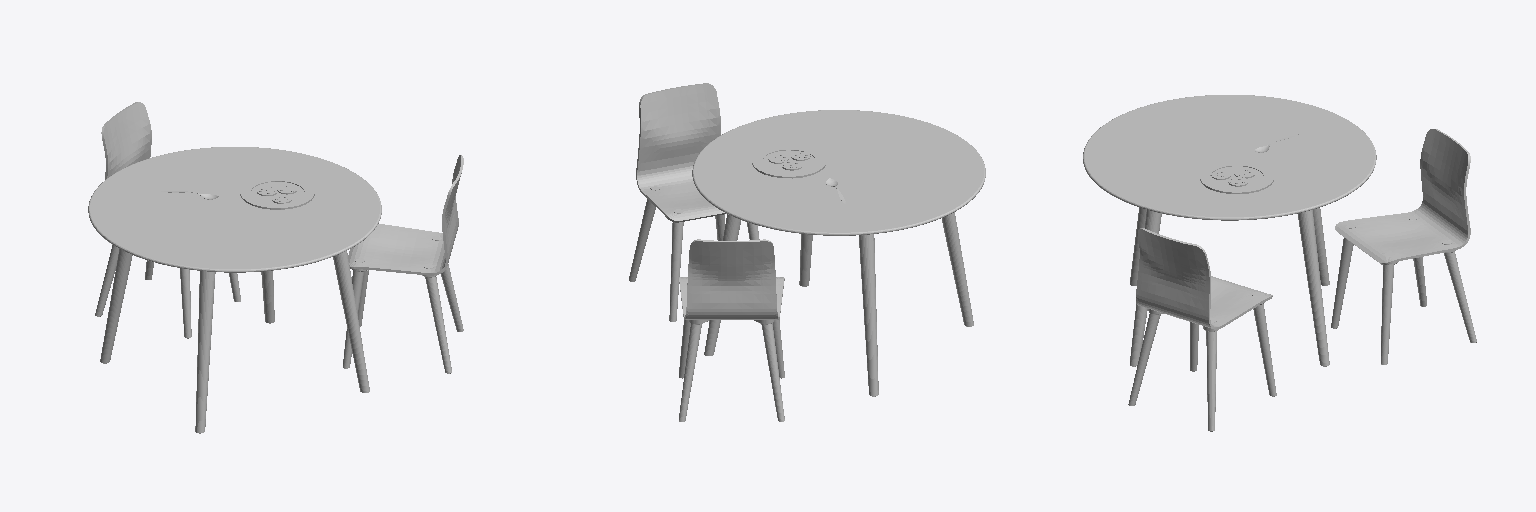
The model's file is Escenario 1 - Comedor.obj.
3 renders of one model, left to right at view 1: azimuth 30°, elevation 25°; view 2: azimuth 150°, elevation 25°; view 3: azimuth 270°, elevation 25°, orthographic.
Visible parts, largest first — view 1: Mesh12 obj5_11_1 Group5 Group4 Group1 Model, Mesh6 _1_003_2 Group3 Group2 Group1 Model, Mesh3 _1_003_1 Group3 Group2 Group1 Model, Mesh18 obj2_11_2 Group5 Group4 Group1 Model, Mesh22 Group7 Group4 Group1 Model, Mesh11 obj2_11_1 Group5 Group4 Group1 Model, Mesh28 _1_003_4 Group9 Group8 Group1 Model, Mesh19 obj2_11_3 Group5 Group4 Group1 Model, Mesh25 _1_003_3 Group9 Group8 Group1 Model, Mesh5 obj3_1 Group3 Group2 Group1 Model, Mesh30 obj2_4 Group9 Group8 Group1 Model, Mesh32 obj3_4 Group9 Group8 Group1 Model (+3 smaller); view 2: Mesh12 obj5_11_1 Group5 Group4 Group1 Model, Mesh3 _1_003_1 Group3 Group2 Group1 Model, Mesh28 _1_003_4 Group9 Group8 Group1 Model, Mesh25 _1_003_3 Group9 Group8 Group1 Model, Mesh6 _1_003_2 Group3 Group2 Group1 Model, Mesh19 obj2_11_3 Group5 Group4 Group1 Model, Mesh22 Group7 Group4 Group1 Model, Mesh18 obj2_11_2 Group5 Group4 Group1 Model, Mesh8 obj2_2 Group3 Group2 Group1 Model, Mesh32 obj3_4 Group9 Group8 Group1 Model, Mesh27 obj3_3 Group9 Group8 Group1 Model, Mesh10 obj3_2 Group3 Group2 Group1 Model (+2 smaller); view 3: Mesh12 obj5_11_1 Group5 Group4 Group1 Model, Mesh3 _1_003_1 Group3 Group2 Group1 Model, Mesh25 _1_003_3 Group9 Group8 Group1 Model, Mesh28 _1_003_4 Group9 Group8 Group1 Model, Mesh6 _1_003_2 Group3 Group2 Group1 Model, Mesh20 obj2_11_4 Group5 Group4 Group1 Model, Mesh22 Group7 Group4 Group1 Model, Mesh24 obj2_3 Group9 Group8 Group1 Model, Mesh11 obj2_11_1 Group5 Group4 Group1 Model, Mesh10 obj3_2 Group3 Group2 Group1 Model, Mesh27 obj3_3 Group9 Group8 Group1 Model, Mesh8 obj2_2 Group3 Group2 Group1 Model (+3 smaller).
Part boxes in pixels (x1,y1,x2,y2): Mesh12 obj5_11_1 Group5 Group4 Group1 Model: (88,147,381,272); Mesh6 _1_003_2 Group3 Group2 Group1 Model: (348,170,461,275); Mesh3 _1_003_1 Group3 Group2 Group1 Model: (356,155,463,253); Mesh18 obj2_11_2 Group5 Group4 Group1 Model: (195,271,215,433); Mesh22 Group7 Group4 Group1 Model: (240,177,314,209); Mesh11 obj2_11_1 Group5 Group4 Group1 Model: (333,251,369,392); Mesh28 _1_003_4 Group9 Group8 Group1 Model: (117,102,151,165); Mesh19 obj2_11_3 Group5 Group4 Group1 Model: (100,249,132,363); Mesh25 _1_003_3 Group9 Group8 Group1 Model: (101,114,128,179); Mesh5 obj3_1 Group3 Group2 Group1 Model: (424,264,451,373); Mesh30 obj2_4 Group9 Group8 Group1 Model: (180,268,191,338); Mesh32 obj3_4 Group9 Group8 Group1 Model: (95,245,118,316); Mesh12 obj5_11_1 Group5 Group4 Group1 Model: (692,110,985,235); Mesh3 _1_003_1 Group3 Group2 Group1 Model: (636,88,718,222); Mesh28 _1_003_4 Group9 Group8 Group1 Model: (679,239,731,319); Mesh25 _1_003_3 Group9 Group8 Group1 Model: (732,239,784,319); Mesh6 _1_003_2 Group3 Group2 Group1 Model: (676,83,725,214); Mesh19 obj2_11_3 Group5 Group4 Group1 Model: (859,234,878,396); Mesh22 Group7 Group4 Group1 Model: (752,145,825,178); Mesh18 obj2_11_2 Group5 Group4 Group1 Model: (942,212,973,326); Mesh8 obj2_2 Group3 Group2 Group1 Model: (669,209,683,321); Mesh32 obj3_4 Group9 Group8 Group1 Model: (761,323,784,421); Mesh27 obj3_3 Group9 Group8 Group1 Model: (679,323,701,421); Mesh10 obj3_2 Group3 Group2 Group1 Model: (629,186,660,281); Mesh12 obj5_11_1 Group5 Group4 Group1 Model: (1083,95,1376,220); Mesh3 _1_003_1 Group3 Group2 Group1 Model: (1167,237,1272,329); Mesh25 _1_003_3 Group9 Group8 Group1 Model: (1335,129,1453,247); Mesh28 _1_003_4 Group9 Group8 Group1 Model: (1359,140,1470,264); Mesh6 _1_003_2 Group3 Group2 Group1 Model: (1136,228,1231,316); Mesh20 obj2_11_4 Group5 Group4 Group1 Model: (1298,210,1329,366); Mesh22 Group7 Group4 Group1 Model: (1200,161,1273,193); Mesh24 obj2_3 Group9 Group8 Group1 Model: (1381,252,1393,364); Mesh11 obj2_11_1 Group5 Group4 Group1 Model: (1130,210,1161,366); Mesh10 obj3_2 Group3 Group2 Group1 Model: (1206,318,1216,431); Mesh27 obj3_3 Group9 Group8 Group1 Model: (1441,240,1476,342); Mesh8 obj2_2 Group3 Group2 Group1 Model: (1252,292,1276,396).
Bounding box in the file's own units: 1.63 × 0.8216 × 1.61.